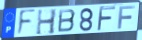8: (79, 7, 94, 32)
B: (57, 8, 77, 33)
F: (16, 9, 37, 38), (96, 5, 117, 32), (117, 5, 137, 30)
H: (35, 9, 58, 36)
